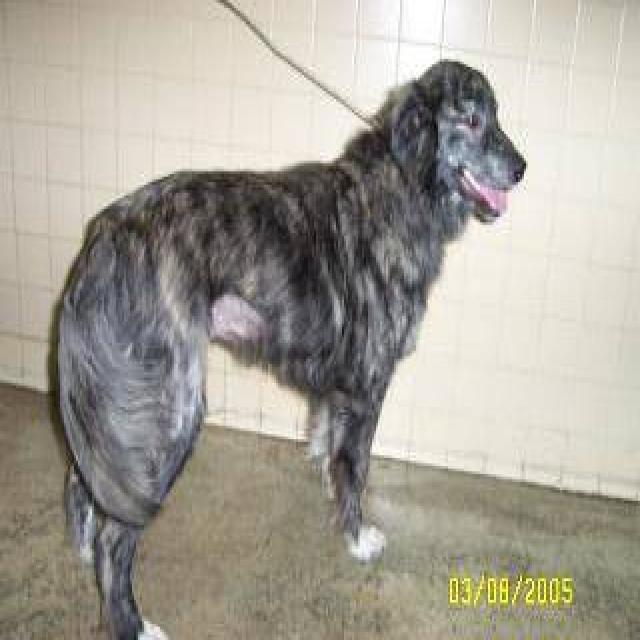Dog: (400, 52, 521, 233)
